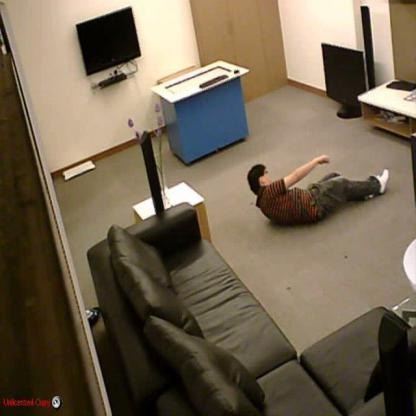Person: (247, 156, 389, 224)
